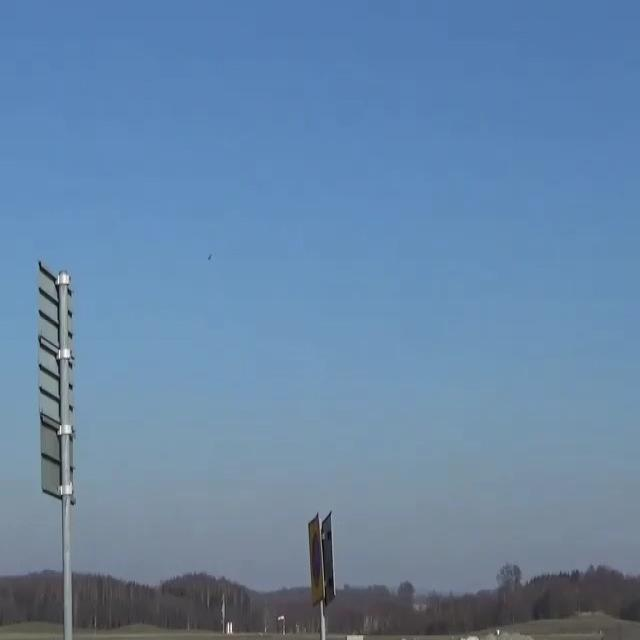bird: (205, 246, 216, 266)
